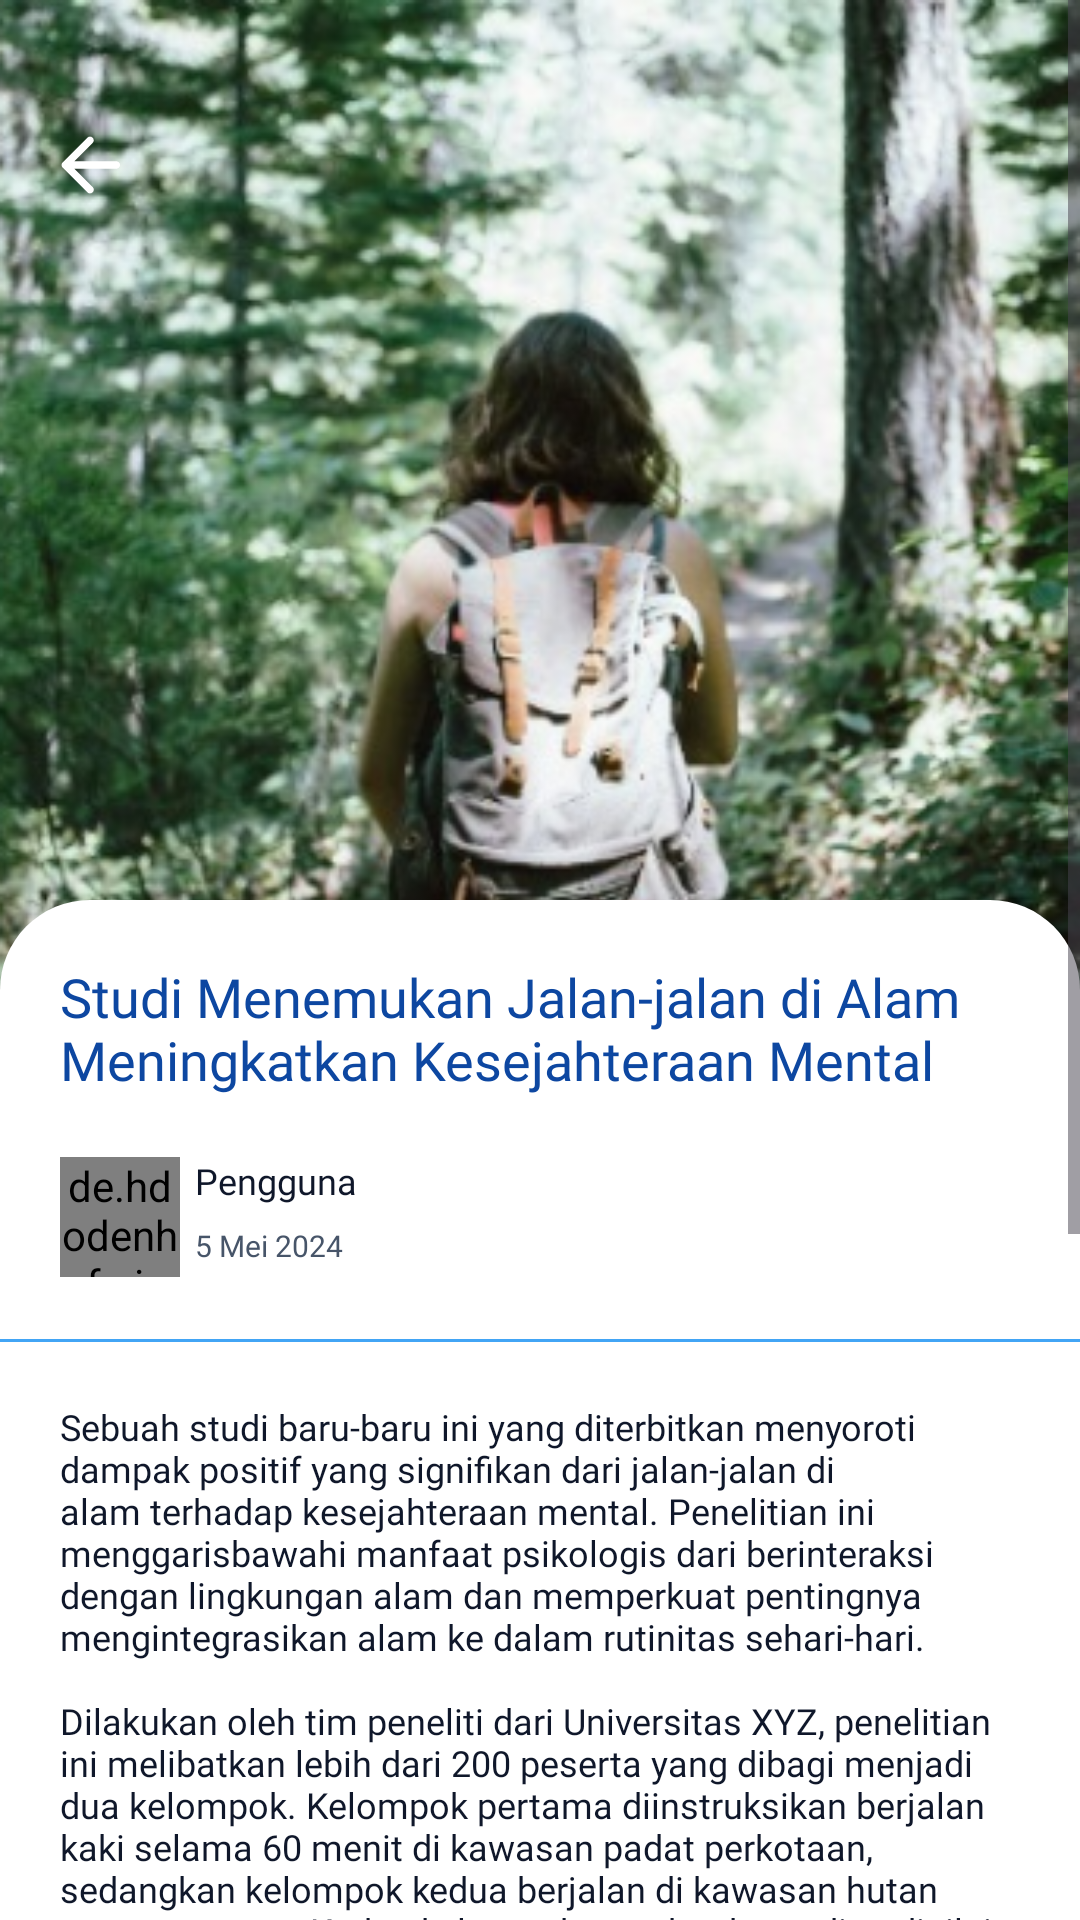

Named icons in this screenshot (1080w x 1920h) and their centers, point (x, y):
Tombol kembali: point (90, 165)
